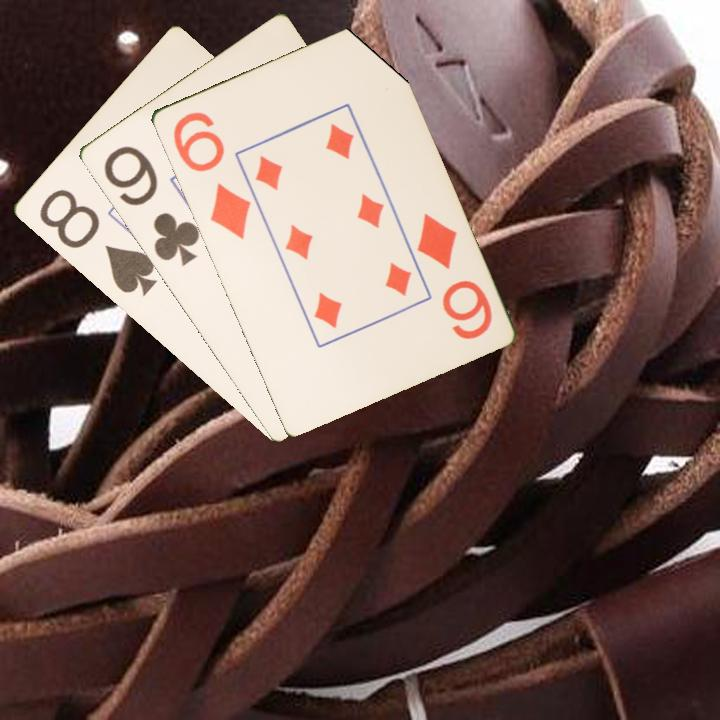6d: (169, 107, 254, 243), (412, 209, 495, 343)
8s: (34, 185, 159, 299)
9c: (99, 142, 202, 269)
